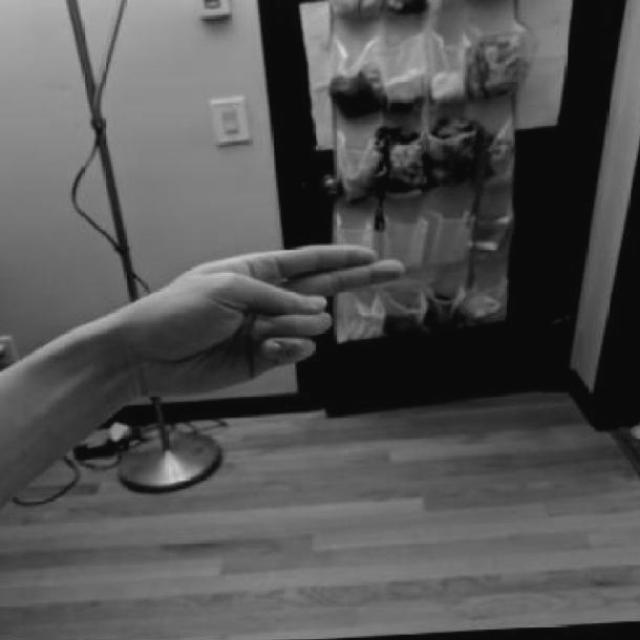H: (104, 227, 411, 410)
